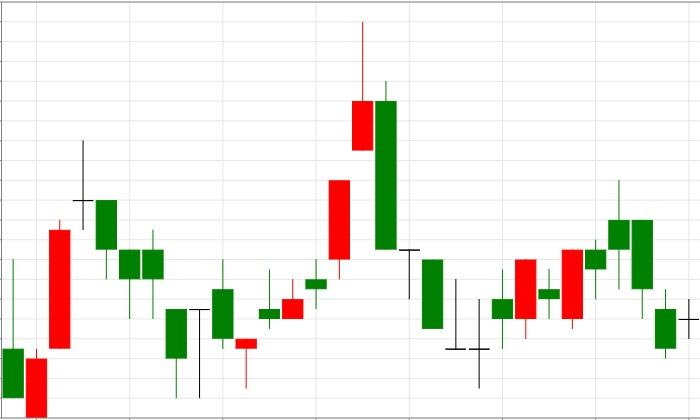shooting_star_fall: (235, 22, 374, 389)
